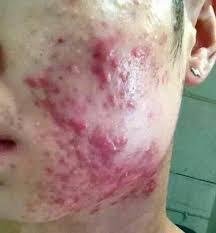fore: (65, 112, 87, 133), (141, 142, 162, 164), (40, 60, 61, 80), (65, 61, 83, 81), (100, 138, 116, 158), (50, 107, 67, 125), (24, 73, 38, 93), (96, 41, 113, 57), (37, 93, 52, 110), (52, 189, 66, 207), (118, 71, 136, 84), (35, 76, 53, 89), (64, 127, 77, 145), (91, 190, 104, 206), (72, 96, 84, 113), (146, 165, 164, 176), (156, 30, 167, 48), (133, 44, 148, 57), (68, 198, 81, 213), (127, 173, 143, 185), (105, 93, 118, 107), (67, 165, 81, 178), (140, 181, 154, 194), (151, 75, 164, 89), (40, 148, 55, 160), (109, 160, 123, 172), (39, 189, 53, 201), (99, 72, 114, 83), (113, 137, 128, 148), (105, 180, 116, 195), (58, 33, 69, 48), (124, 159, 139, 170), (92, 131, 102, 147), (45, 124, 57, 137), (123, 97, 134, 110), (75, 147, 88, 158), (66, 145, 79, 156), (151, 58, 162, 71), (87, 177, 101, 187), (59, 94, 71, 105), (54, 132, 64, 145), (47, 162, 57, 174), (79, 197, 89, 209), (92, 162, 102, 173), (90, 204, 100, 215), (144, 109, 153, 120), (59, 155, 69, 164), (82, 157, 91, 167), (69, 191, 79, 200), (57, 172, 67, 181), (59, 181, 69, 189), (107, 57, 117, 64), (129, 188, 137, 196), (119, 193, 127, 201)
